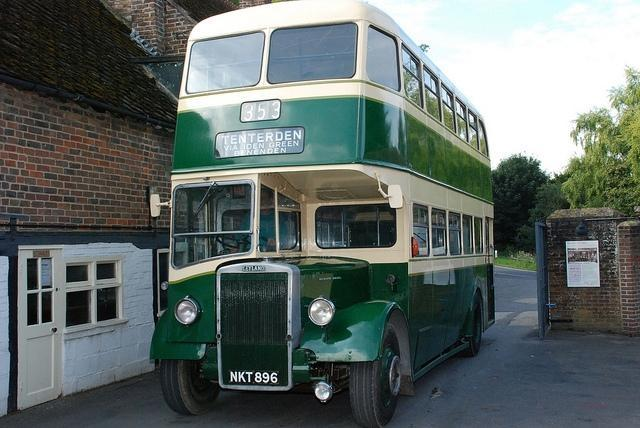bus: (146, 0, 492, 409)
